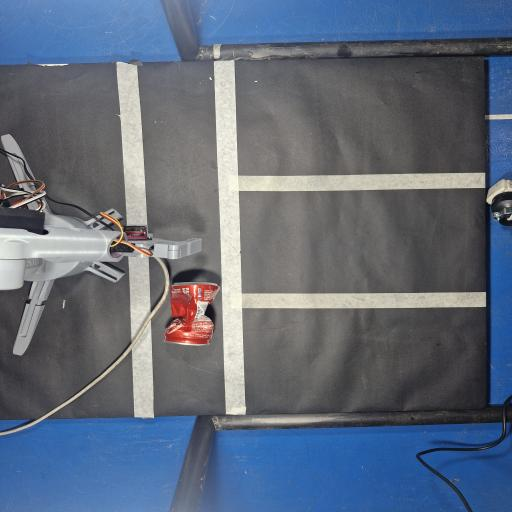lata_defectuoso: (164, 282, 220, 346)
